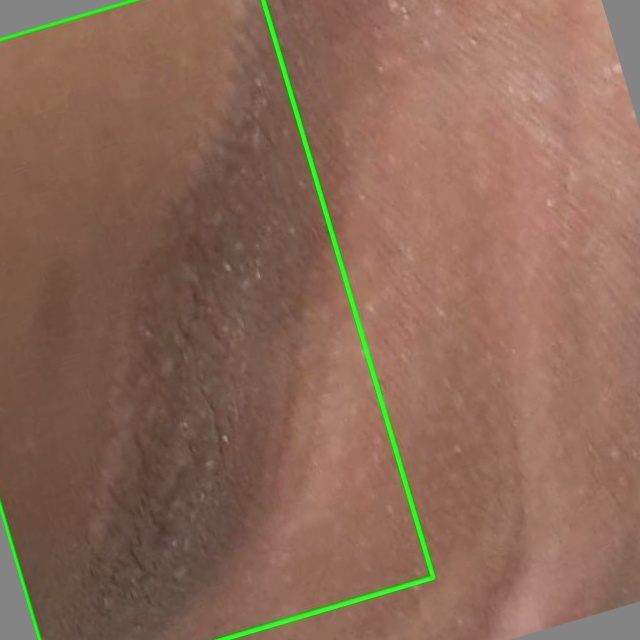Contact Dermatitis: (0, 0, 433, 639)
